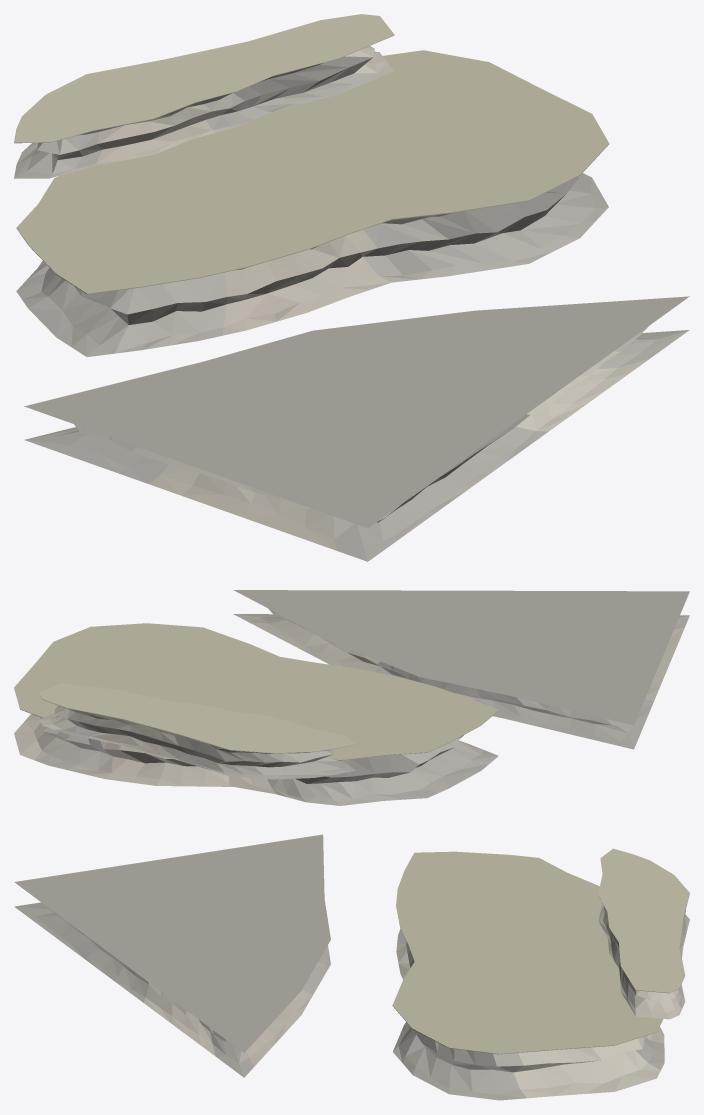
File: RockTerrainFamilyV1.glb
3 views of the same model, one above another, from view 1: azimuth 30°, elevation 25°; view 2: azimuth 150°, elevation 25°; view 3: azimuth 270°, elevation 25° (orthographic). The views are drawn at different scales.
Parts seen in each view (by area): view 1: ForegroundBank, PlayableGround, MainPlatform, UpperTerraceGround, UpperTerraceCliff; view 2: ForegroundBank, PlayableGround, MainPlatform, UpperTerraceGround, UpperTerraceCliff; view 3: ForegroundBank, PlayableGround, MainPlatform, UpperTerraceGround, UpperTerraceCliff.
Boxes of the visible parts, bbox=[...] form: ForegroundBank: bbox=[24, 296, 689, 561]; PlayableGround: bbox=[16, 50, 609, 294]; MainPlatform: bbox=[16, 173, 608, 356]; UpperTerraceGround: bbox=[14, 14, 394, 143]; UpperTerraceCliff: bbox=[14, 46, 393, 178]; ForegroundBank: bbox=[233, 590, 689, 749]; PlayableGround: bbox=[14, 623, 498, 760]; MainPlatform: bbox=[14, 710, 498, 805]; UpperTerraceGround: bbox=[39, 683, 356, 753]; UpperTerraceCliff: bbox=[39, 695, 355, 779]; ForegroundBank: bbox=[14, 834, 330, 1077]; PlayableGround: bbox=[392, 851, 662, 1054]; MainPlatform: bbox=[393, 929, 664, 1100]; UpperTerraceGround: bbox=[598, 848, 689, 993]; UpperTerraceCliff: bbox=[598, 876, 689, 1019].
Size of the model in its own units: 79.59 by 11.74 by 92.37.
